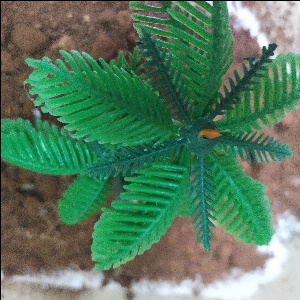plant: (4, 1, 299, 268)
